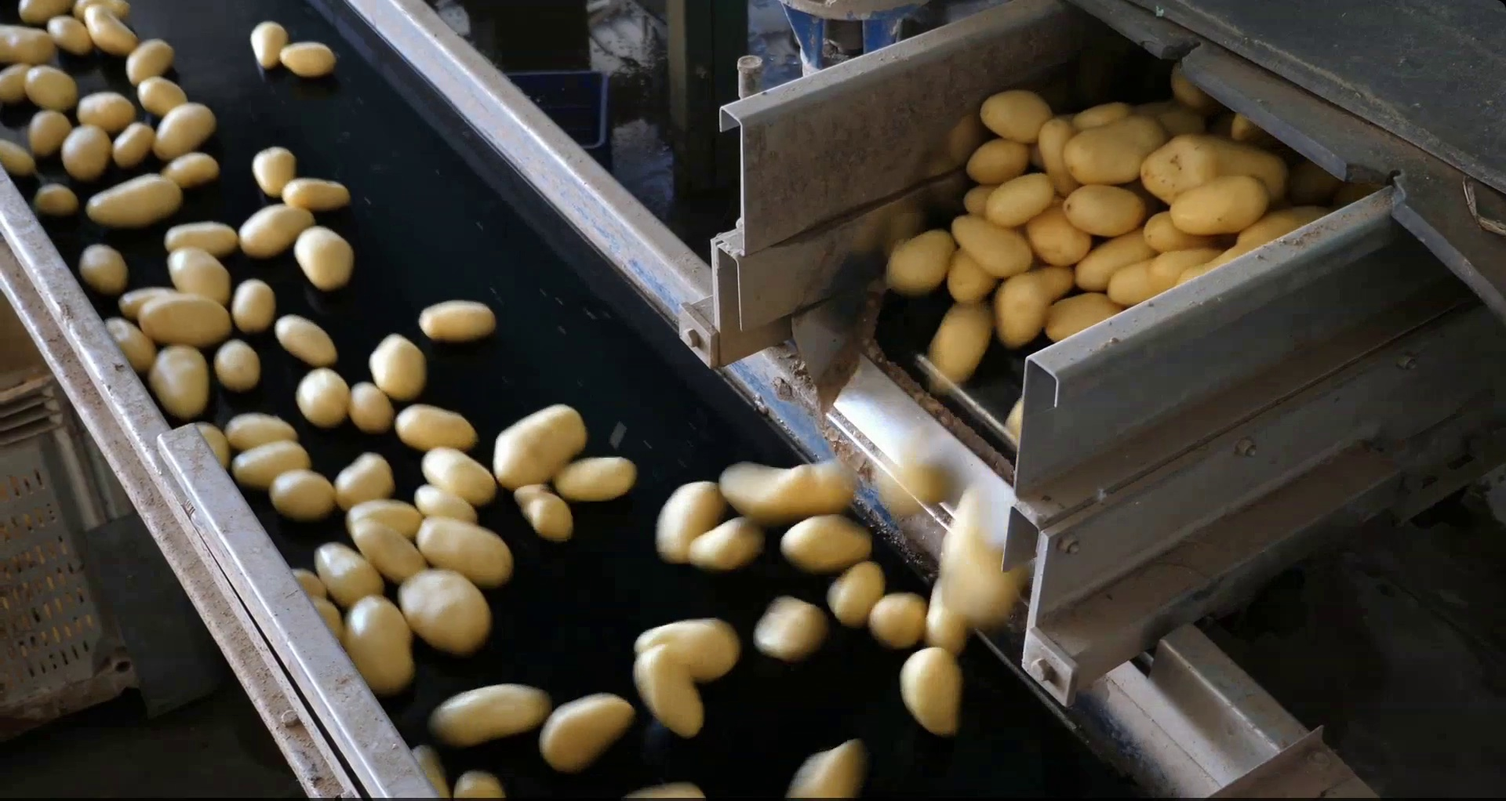potato: (935, 480, 1029, 633), (1135, 129, 1290, 206), (712, 453, 867, 529), (487, 395, 593, 496), (394, 562, 496, 661), (533, 685, 638, 778), (421, 677, 553, 748), (339, 589, 421, 700), (627, 613, 745, 685), (414, 510, 516, 592), (1060, 112, 1170, 188), (923, 293, 998, 401), (989, 263, 1080, 350), (1102, 243, 1220, 310), (649, 477, 732, 571), (880, 422, 956, 524), (631, 643, 709, 742), (1165, 170, 1273, 238), (777, 506, 878, 577), (896, 642, 968, 741), (875, 221, 964, 298), (78, 168, 185, 231), (1070, 222, 1162, 295), (947, 208, 1035, 280), (750, 589, 828, 669), (780, 734, 873, 801), (416, 440, 500, 510), (143, 340, 215, 421), (682, 513, 769, 578), (348, 513, 425, 586), (311, 538, 387, 611), (288, 214, 358, 293), (1231, 201, 1340, 251), (136, 291, 235, 346), (231, 199, 320, 260), (1061, 182, 1151, 241), (391, 397, 479, 456), (1039, 289, 1127, 347), (976, 83, 1057, 146), (329, 445, 399, 515), (826, 556, 888, 633), (225, 437, 315, 490), (366, 327, 430, 401), (161, 242, 235, 305), (983, 169, 1059, 230), (1022, 199, 1090, 267), (411, 292, 498, 345), (1032, 112, 1085, 198), (551, 454, 642, 504), (263, 465, 341, 523), (511, 477, 577, 545), (1140, 204, 1220, 260), (866, 585, 931, 653), (150, 99, 219, 163), (922, 570, 970, 661), (343, 494, 430, 543), (269, 311, 340, 371), (295, 364, 354, 432), (960, 132, 1032, 187), (944, 242, 999, 310), (57, 120, 114, 183), (103, 314, 158, 376), (222, 409, 303, 451), (278, 172, 355, 216), (20, 60, 80, 116), (118, 34, 179, 88), (81, 1, 142, 55), (409, 480, 479, 527), (162, 217, 239, 259), (247, 140, 300, 201), (211, 334, 262, 397), (229, 274, 279, 337), (74, 240, 131, 295), (73, 89, 137, 137), (133, 69, 193, 120), (24, 103, 75, 161), (155, 148, 224, 190), (108, 115, 158, 172), (409, 738, 453, 801), (347, 379, 395, 436), (1, 19, 58, 67), (246, 16, 290, 76), (188, 416, 231, 475), (277, 38, 340, 78), (115, 284, 181, 321), (446, 767, 516, 801), (611, 778, 714, 801), (28, 179, 84, 220), (1068, 97, 1131, 132), (45, 12, 95, 56), (309, 591, 344, 647), (1168, 61, 1206, 112), (957, 181, 1005, 219), (2, 132, 38, 182), (289, 562, 328, 605), (1, 58, 35, 107), (13, 1, 75, 27), (71, 1, 139, 18), (1231, 109, 1258, 147)
